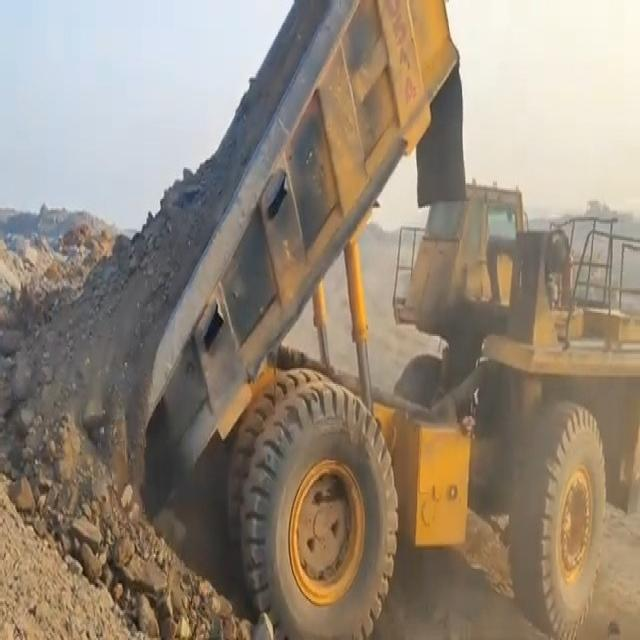dump_truck: (147, 0, 640, 640)
